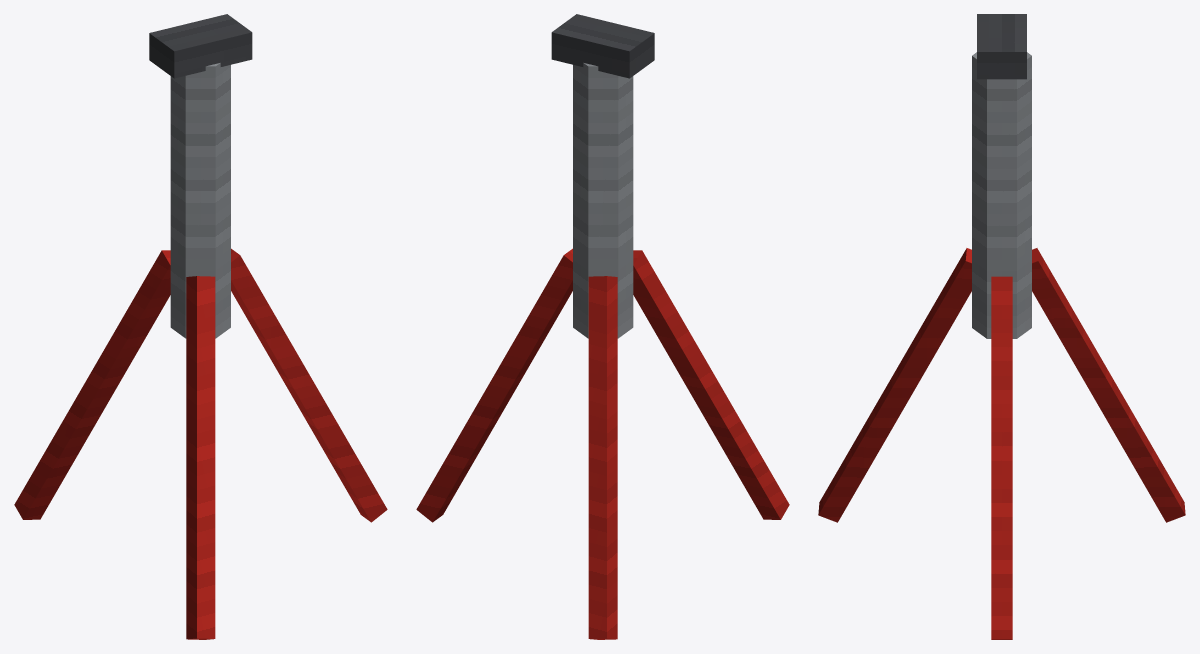
Rendered from cavalete_mecanico.glb.
3 renders of one model, left to right at view 1: azimuth 30°, elevation 25°; view 2: azimuth 150°, elevation 25°; view 3: azimuth 270°, elevation 25°, orthographic.
Visible parts, largest first — view 1: Inteiro; view 2: Inteiro; view 3: Inteiro.
Part boxes in pixels (box(x1,y1,x2,y2)): Inteiro: box(14, 14, 387, 639); Inteiro: box(416, 14, 789, 639); Inteiro: box(818, 14, 1185, 639).
Bounding box in the file's own units: 0.3202 × 0.5818 × 0.3668.
Materials: 1 (1 with a texture image).
